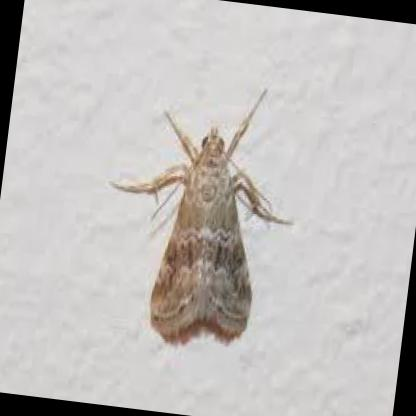Hellula undalis: (93, 75, 299, 348)
